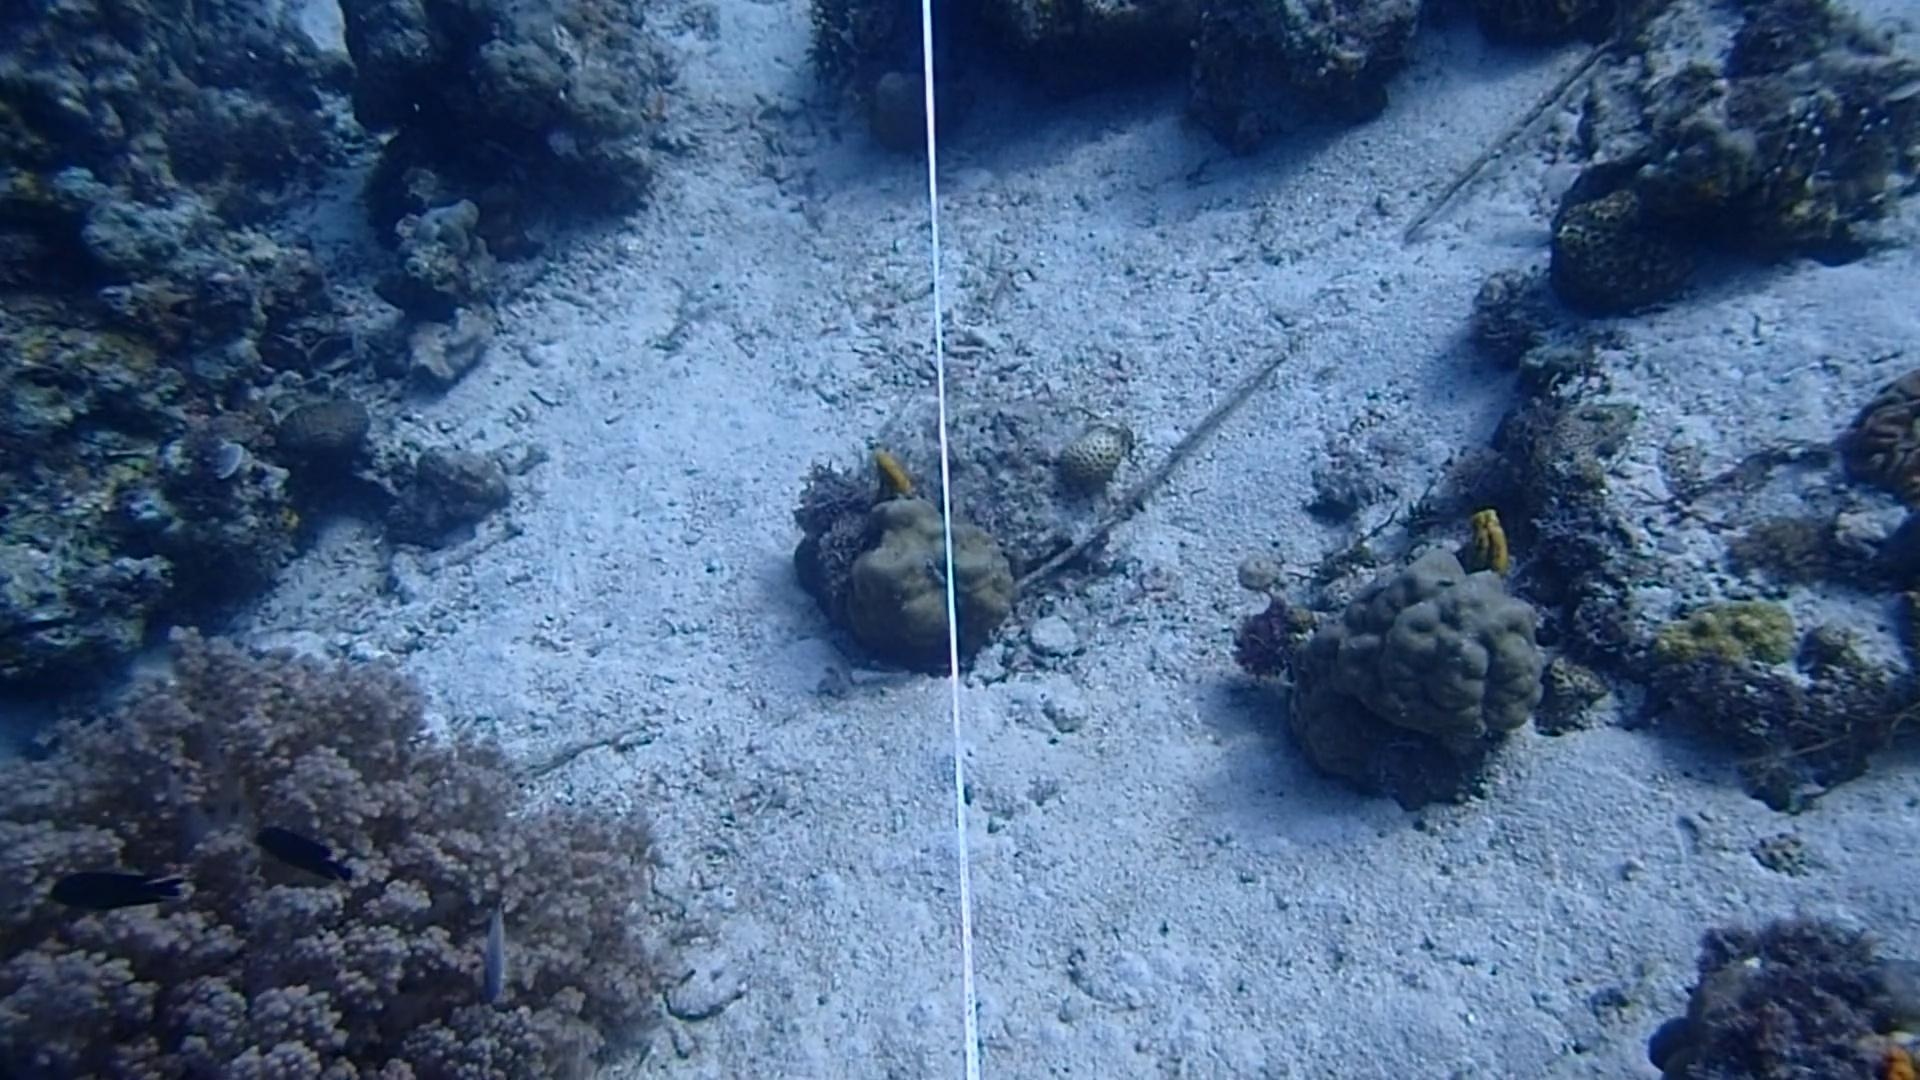Dark Fish: (54, 857, 191, 930), (251, 814, 369, 893)
Light Fish: (458, 894, 526, 1002)
